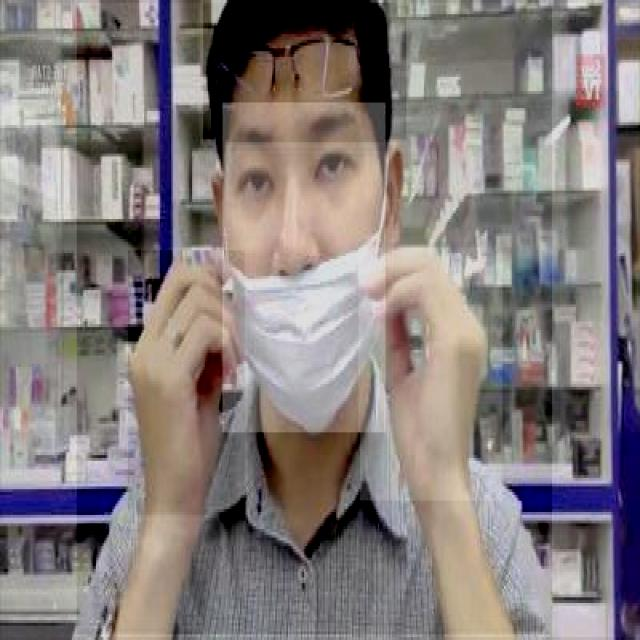face_mask: (220, 102, 386, 436)
glasses: (206, 31, 372, 111)
hand_noglove: (358, 247, 502, 503), (126, 250, 245, 518)
head_nohelmet: (202, 3, 406, 142)
person: (75, 0, 552, 637)
